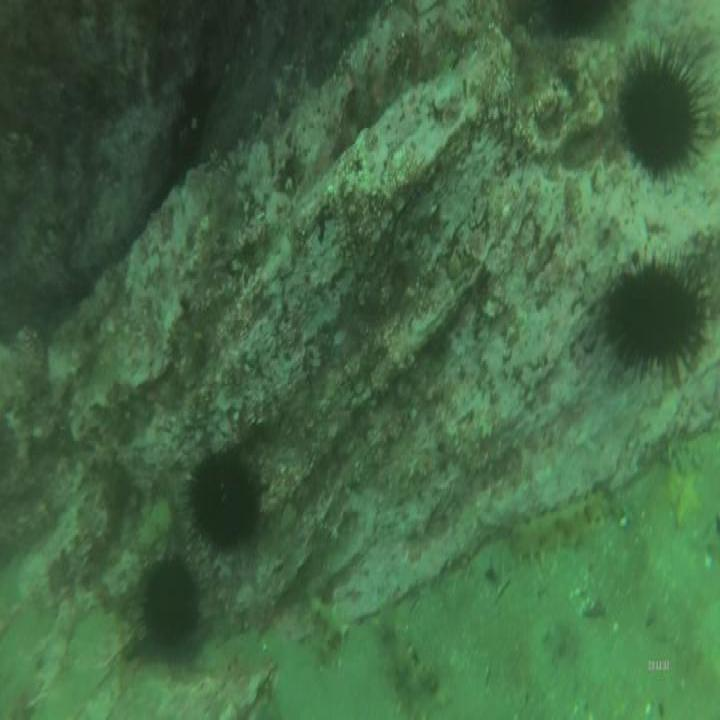echinus: (597, 234, 717, 397), (611, 41, 718, 199), (182, 443, 275, 567), (133, 539, 208, 665)
holothurian: (509, 487, 608, 558)
